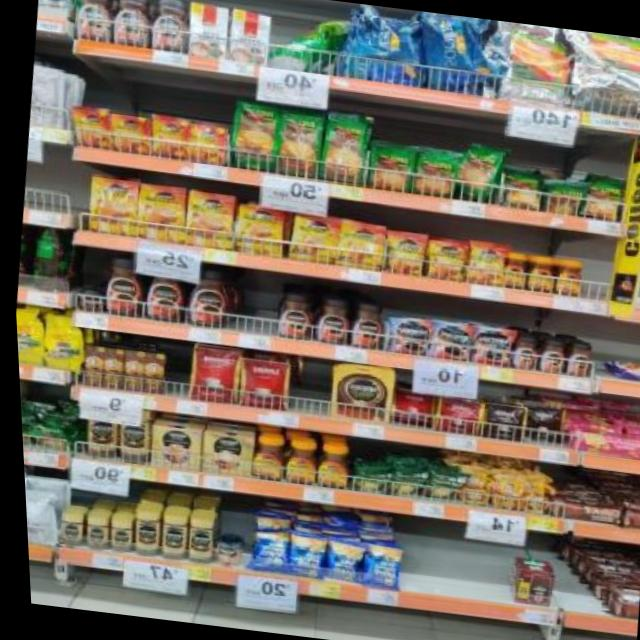Coffee: (82, 174, 137, 236), (180, 189, 234, 250), (131, 182, 185, 241), (229, 200, 282, 256), (178, 268, 226, 328), (97, 257, 143, 317), (138, 264, 185, 322), (330, 219, 383, 270), (286, 212, 339, 262), (146, 0, 190, 51), (77, 404, 115, 458), (111, 406, 147, 462), (108, 0, 152, 45), (270, 292, 313, 338), (309, 296, 348, 345), (381, 229, 424, 273), (71, 0, 116, 42), (460, 241, 503, 283), (423, 237, 465, 280), (424, 322, 470, 361), (343, 302, 381, 349), (466, 326, 508, 366), (385, 316, 427, 354), (308, 445, 345, 488), (276, 441, 313, 483), (245, 439, 282, 480), (125, 508, 156, 556), (151, 512, 181, 558), (178, 518, 209, 562), (548, 256, 580, 296), (521, 254, 552, 290), (497, 250, 526, 287), (560, 339, 589, 375), (506, 335, 535, 369), (533, 338, 562, 372), (77, 516, 104, 550), (51, 514, 78, 546), (102, 518, 127, 550), (73, 288, 99, 310)
